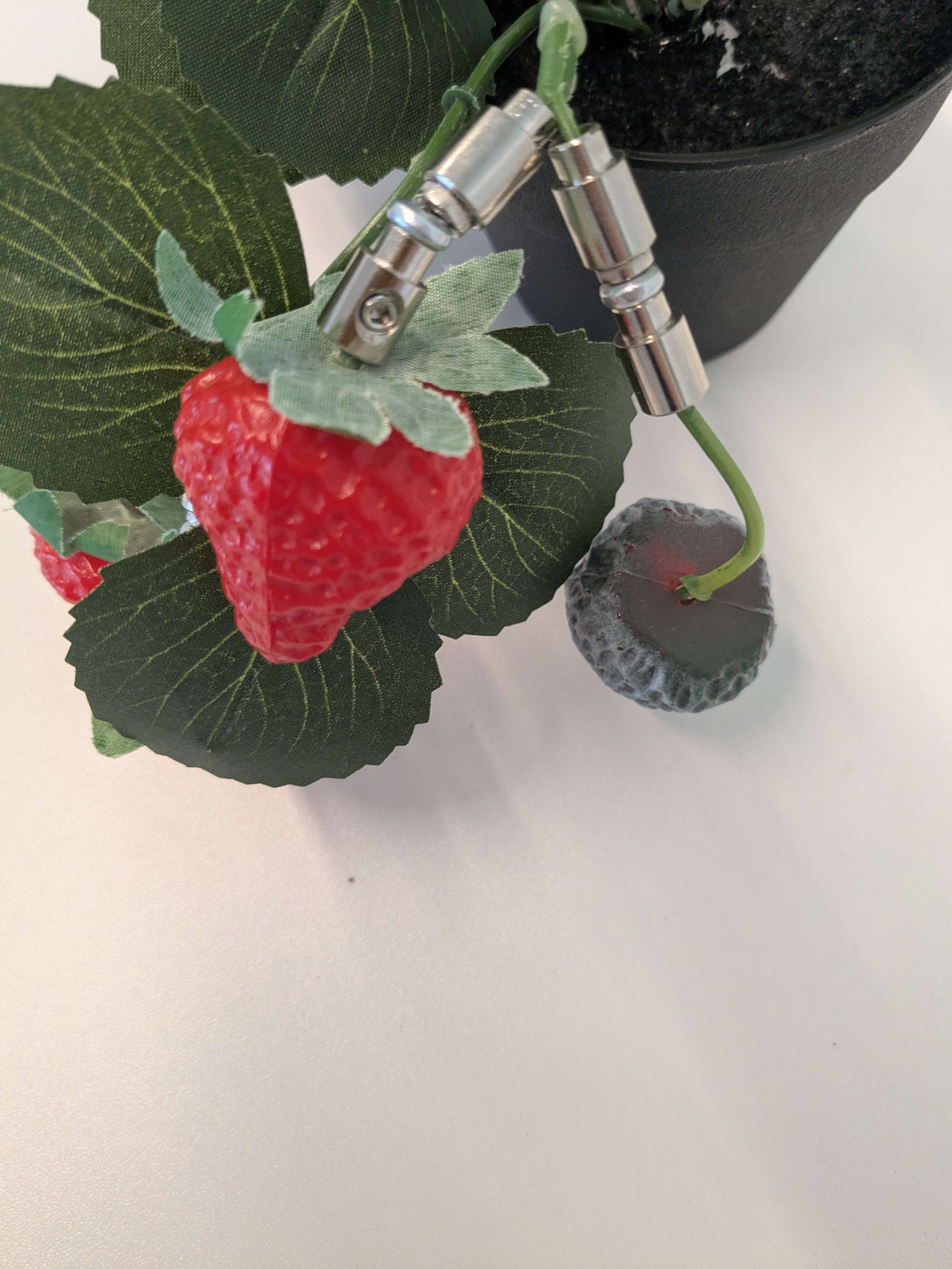Strawberry: (154, 283, 489, 703), (25, 502, 129, 623)
